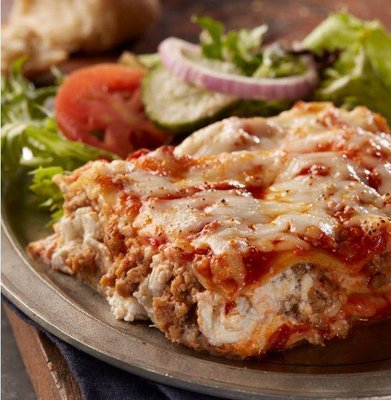curry: (297, 11, 391, 122), (192, 14, 269, 76)
